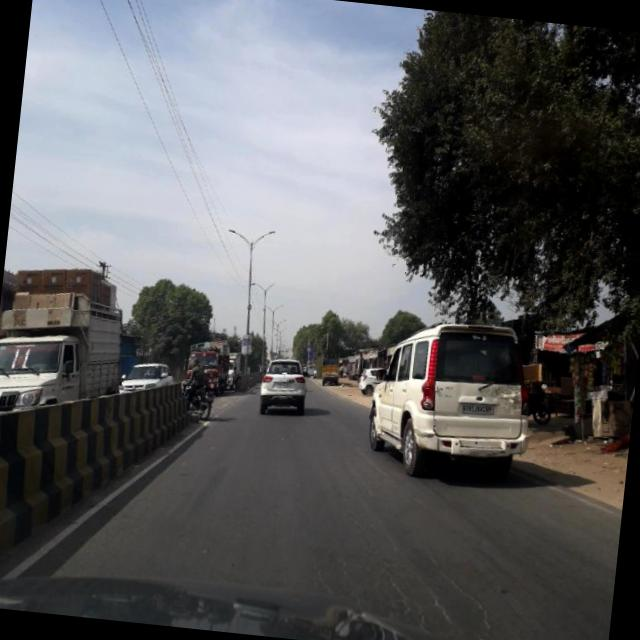crack: (356, 533, 514, 630)
